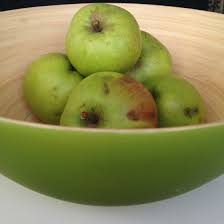apple: (59, 6, 147, 73)
damaged_apple: (65, 69, 161, 134), (152, 77, 208, 126)
